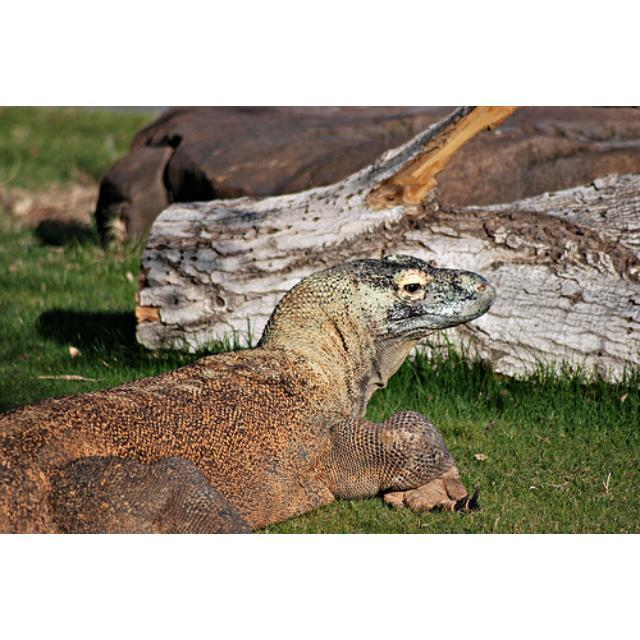KomodoDragon: (2, 255, 498, 531)
